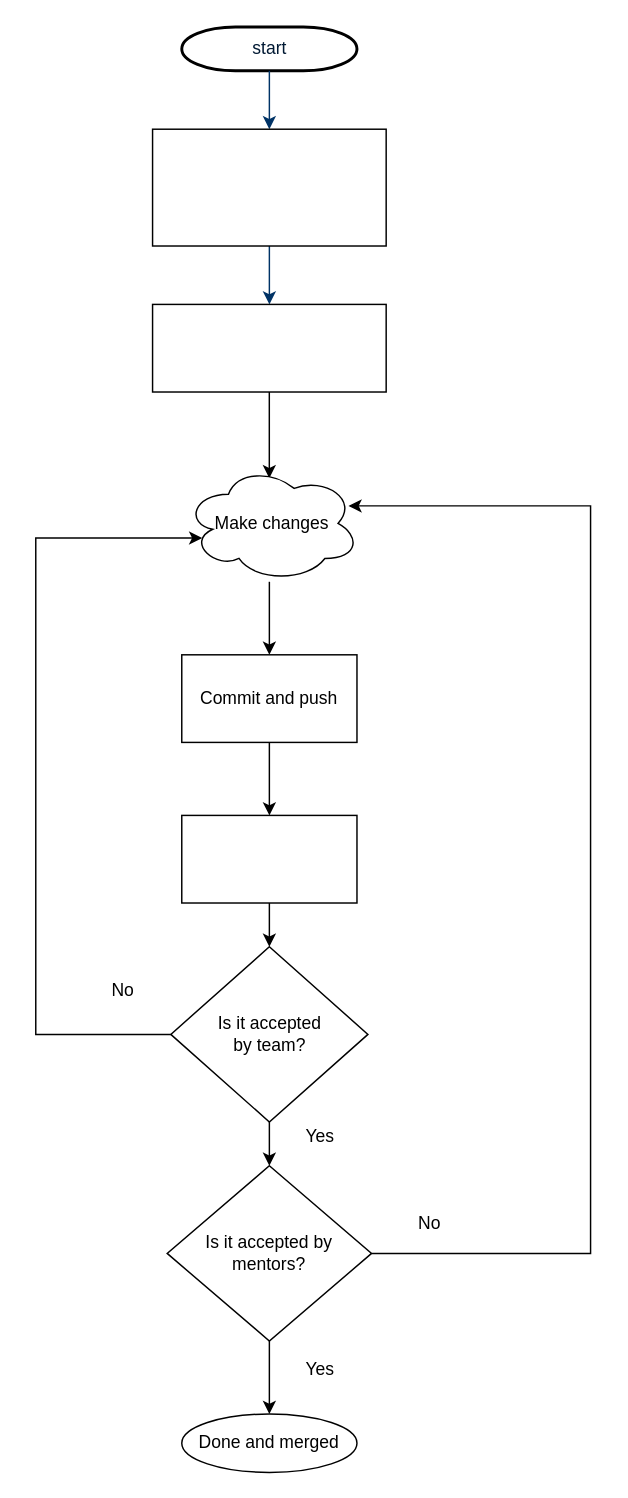
Image size: 628x1498. Some labels were removed from this diagram. The shapes that lost their labels are listed below. From the top down, each one's centre as x and y in pixels, then its label:
[268,187]: Checkout "developer" branch and update
[268,347]: Create new branch "CWL-№-Name_of_task"
[268,858]: Make merge request
